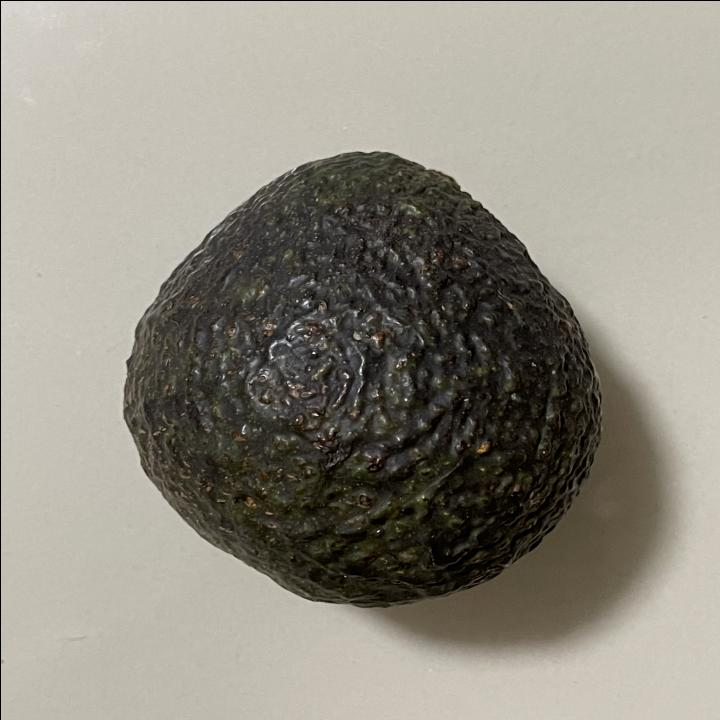Level1: (110, 138, 612, 618)
